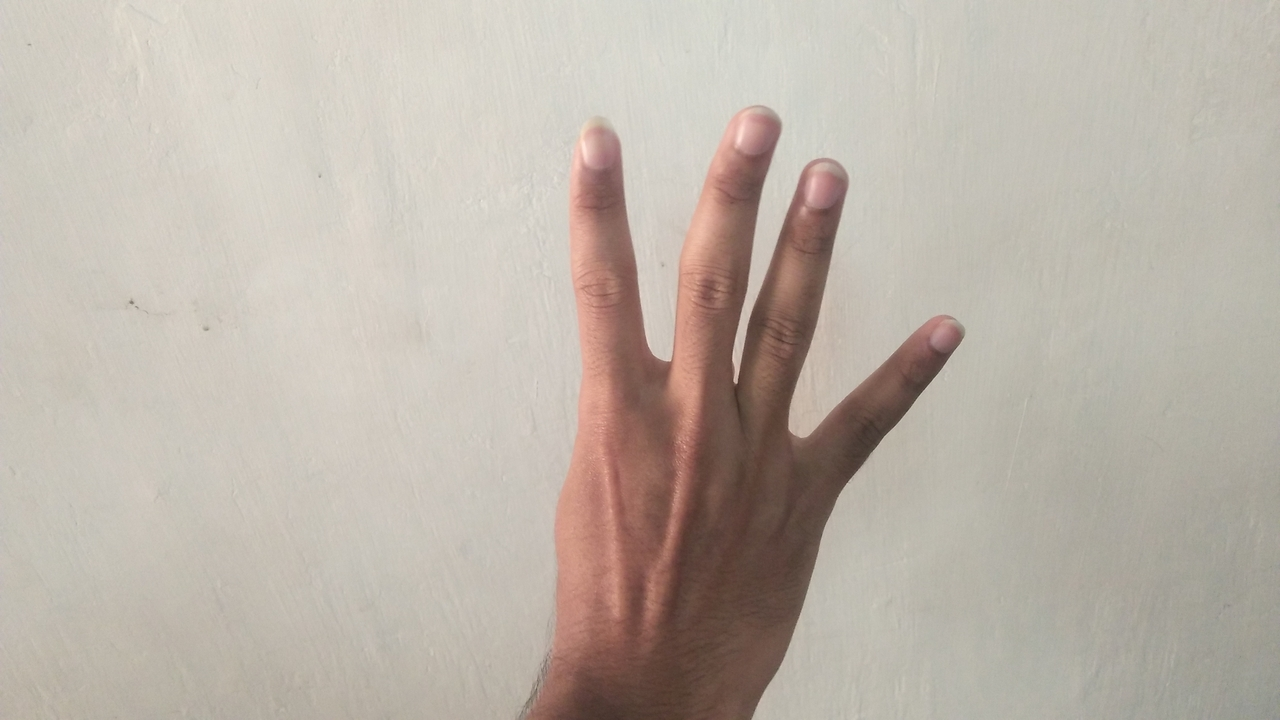fingertip: (712, 102, 794, 164), (788, 150, 856, 214), (912, 306, 974, 364), (566, 120, 626, 178)
